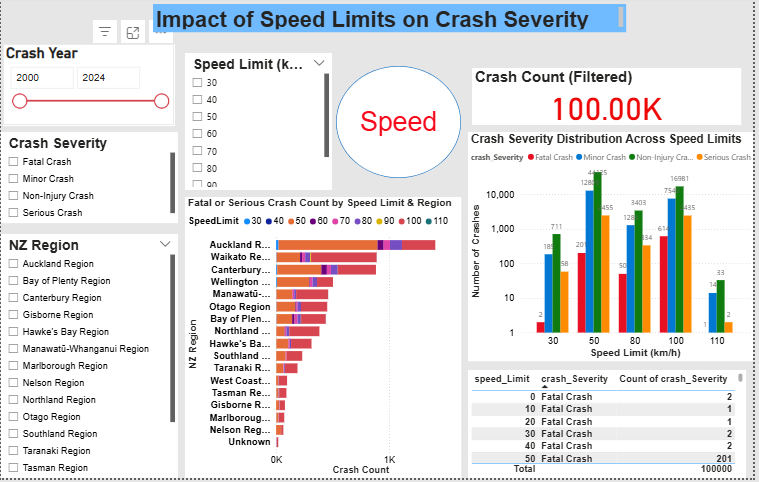

This screenshot's page, from the dashboard's own definition file:
{"tool":"powerbi","page":{"name":"Speed & Severity Analysis","canvas":[1280,820],"ordinal":1},"visuals":[{"type":"slicer","title":"Crash Year","fields":{"Values":["new_cas1.crash_Year"]},"box":[3.4,81.7,290.9,137.8],"z":0},{"type":"slicer","fields":{"Values":["new_cas1.crash_Severity"]},"box":[0,231.4,301.1,154.8],"z":1000},{"type":"slicer","fields":{"Values":["new_cas1.NZ Region"]},"box":[0,404.9,301.1,415.1],"z":2000},{"type":"slicer","title":"Speed Limit","fields":{"Values":["new_cas1.speed_Limit"]},"box":[313,97,250.1,233.1],"z":3000},{"type":"card","title":"Crash Count (Filtered)","fields":{"Values":["CountNonNull(new_cas1.crash_Severity)"]},"box":[801.3,122.5,457.6,97],"z":4000},{"type":"clusteredColumnChart","title":"Crash Severity Distribution Across Speed Limits","fields":{"Category":["new_cas1.speed_Limit"],"Y":["CountNonNull(new_cas1.crash_Severity)"],"Series":["new_cas1.crash_Severity"]},"box":[794.5,231.4,484.9,389.6],"z":5000},{"type":"tableEx","fields":{"Values":["new_cas1.speed_Limit","new_cas1.crash_Severity","CountNonNull(new_cas1.crash_Severity)"]},"box":[794.5,636.3,472.9,183.7],"z":6000},{"type":"barChart","title":"Fatal or Serious Crash Count by Speed Limit & Region","fields":{"Category":["new_cas1.NZ Region"],"Y":["CountNonNull(new_cas1.OBJECTID)"],"Series":["new_cas1.speed_Limit"]},"box":[313,342,469.5,478],"z":7000},{"type":"textbox","box":[258.6,13.6,804.7,47.6],"z":8000},{"type":"shape","box":[569.9,119.1,212.7,190.5],"z":9000}]}

Visuals, with their boxes in screenshot pixels (x1, y1, x2, y2), scaled from the page's 1280x820 canvas onto the 759x482 screenshot:
"Crash Year" slicer: 2, 48, 175, 129
slicer - new_cas1.crash_Severity: 0, 136, 179, 227
slicer - new_cas1.NZ Region: 0, 238, 179, 481
"Speed Limit" slicer: 186, 57, 334, 194
"Crash Count (Filtered)" card: 475, 72, 746, 129
"Crash Severity Distribution Across Speed Limits" clusteredColumnChart: 471, 136, 758, 365
tableEx - new_cas1.speed_Limit x new_cas1.crash_Severity: 471, 374, 752, 481
"Fatal or Serious Crash Count by Speed Limit & Region" barChart: 186, 201, 464, 481
textbox: 153, 8, 631, 36
shape: 338, 70, 464, 182
